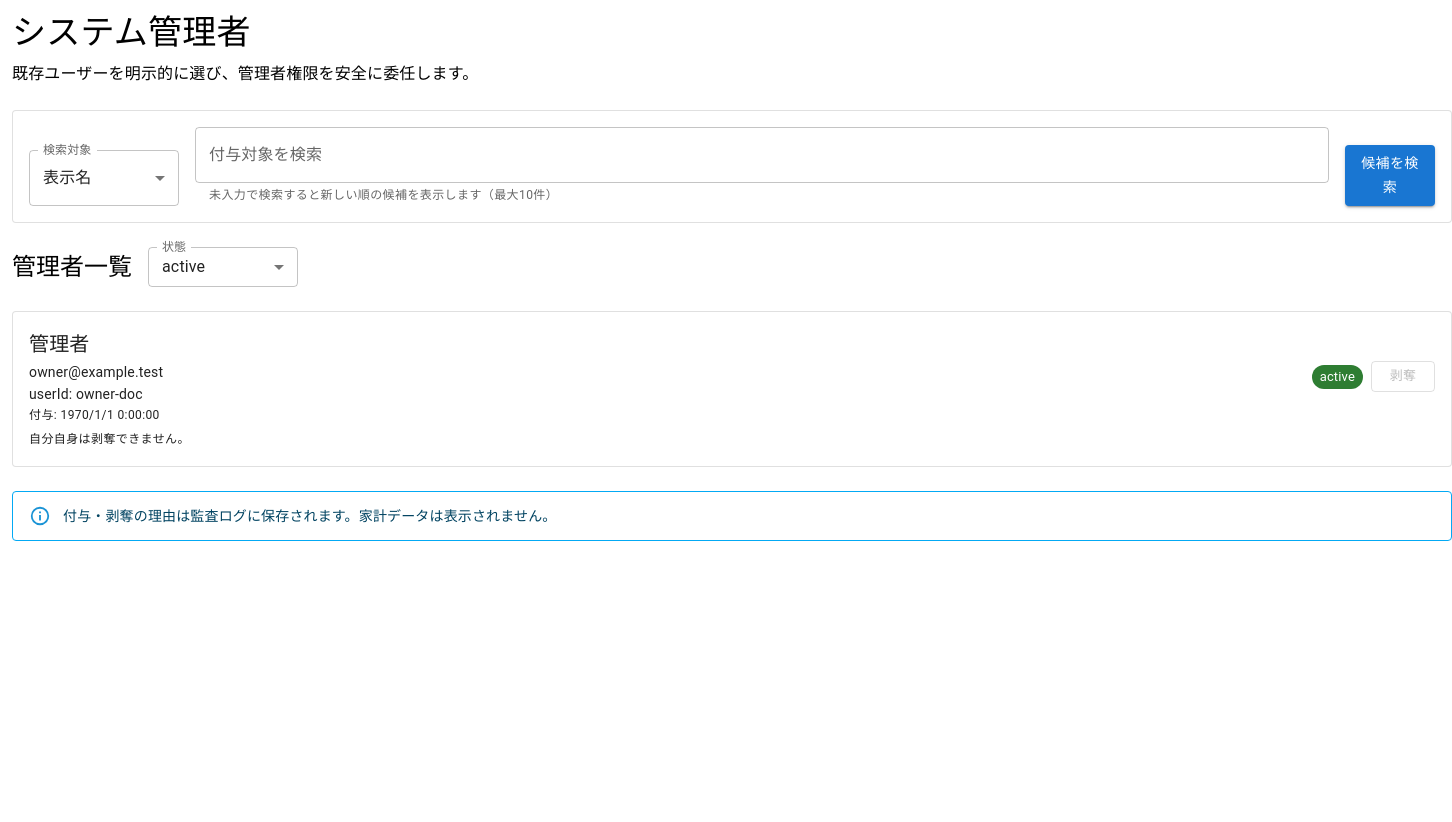
SystemAdminManagementPage › 検索条件が未入力でも付与候補を検索する
Click the button "候補を検索" at (1390, 175), box [1345,145,1435,206]
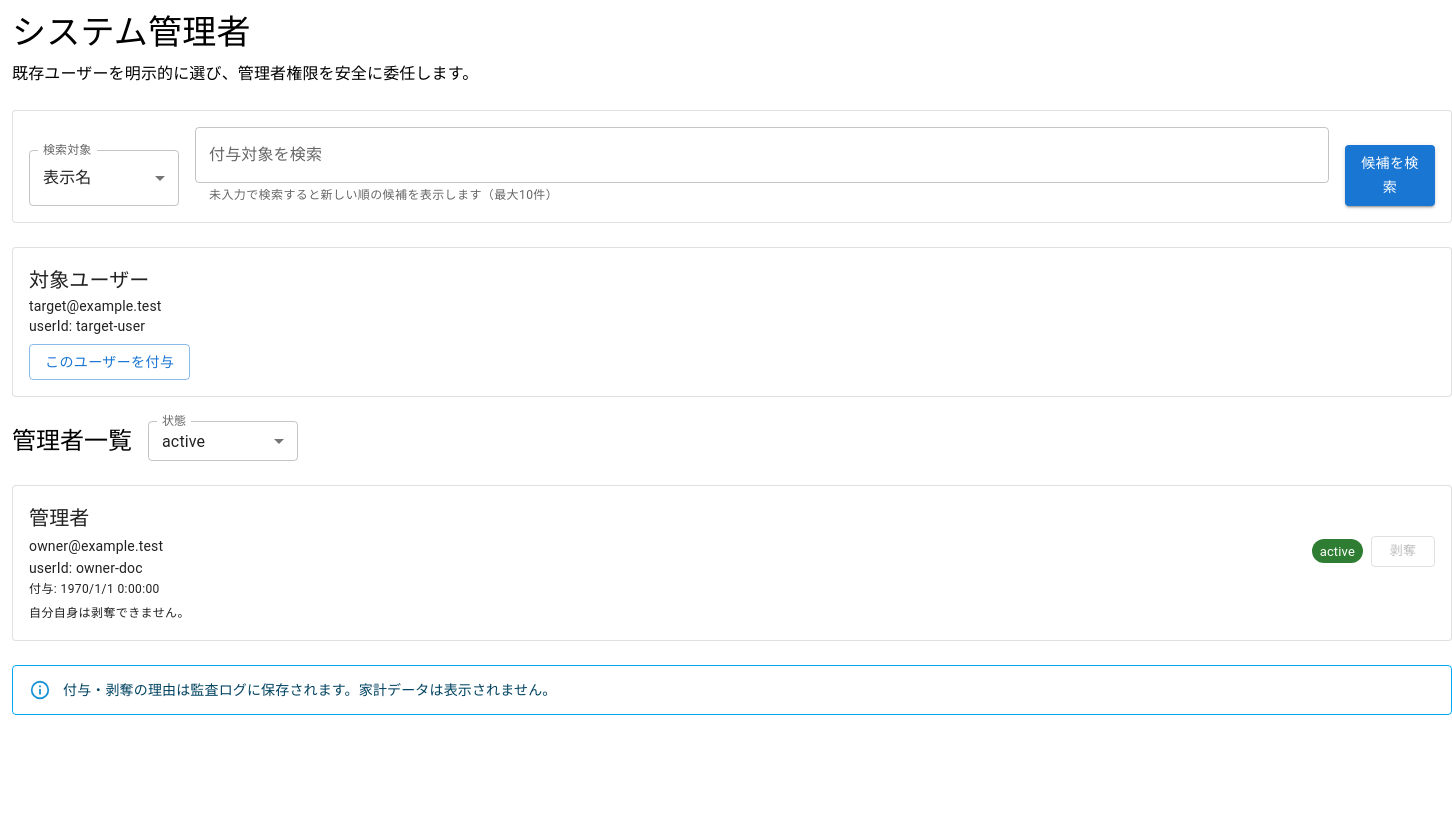
Expected: the heading "対象ユーザー" is shown, [29,268,150,292]
